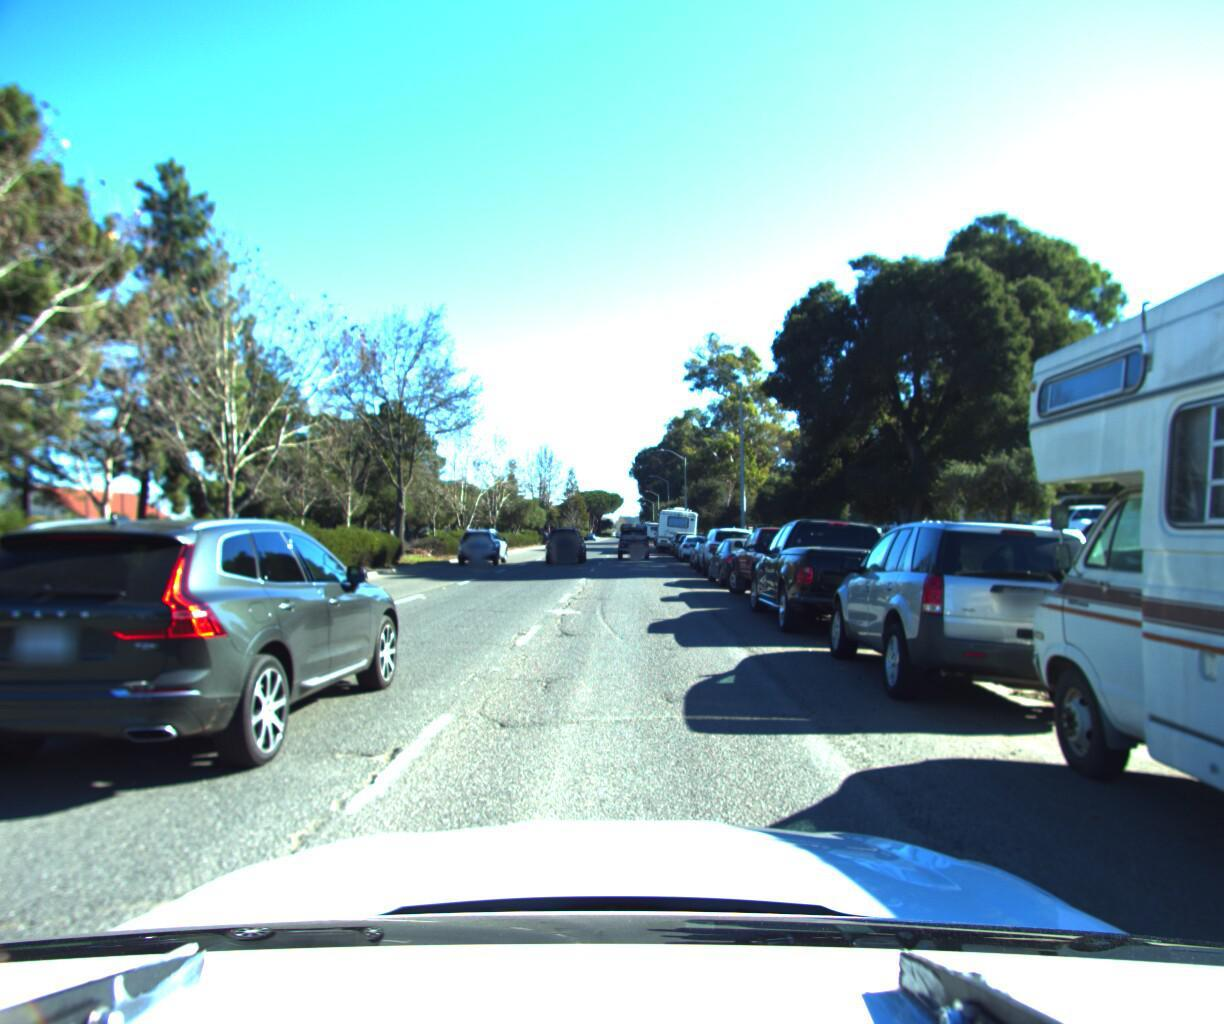car: (0, 500, 411, 807), (822, 503, 1118, 682), (745, 506, 928, 634), (724, 515, 847, 604), (703, 531, 783, 584), (691, 519, 767, 574), (883, 513, 986, 548), (457, 525, 509, 563), (540, 521, 587, 562), (686, 530, 737, 563), (611, 513, 652, 554), (673, 529, 714, 557), (666, 526, 698, 552)
other_vehicle: (973, 0, 1224, 1024), (653, 501, 696, 548)
